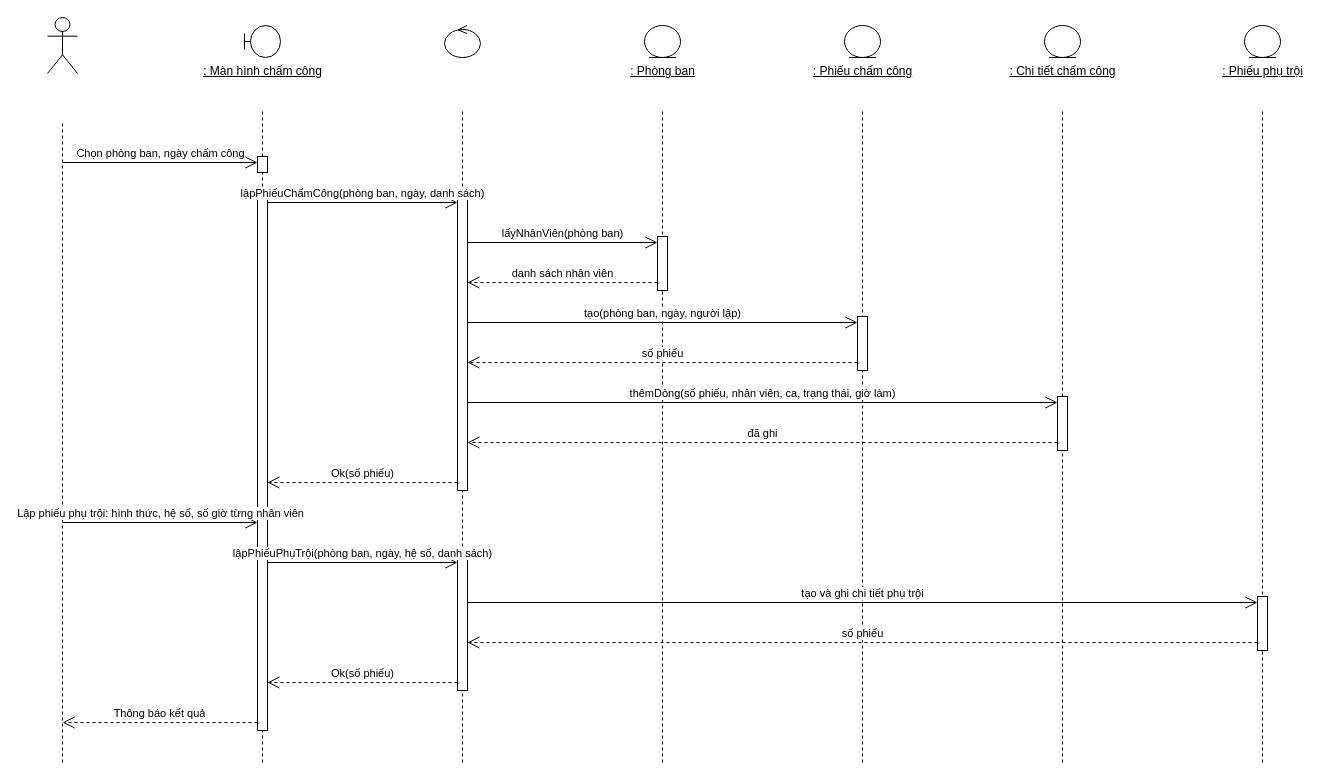
Some shapes in this 1320 by 781 pixel diagram are drawn without their labels. Each missing label, with the centre of its shape:
": Ban chấm công" belongs at point 62,45.
": Điều khiển chấm công" belongs at point 462,41.
